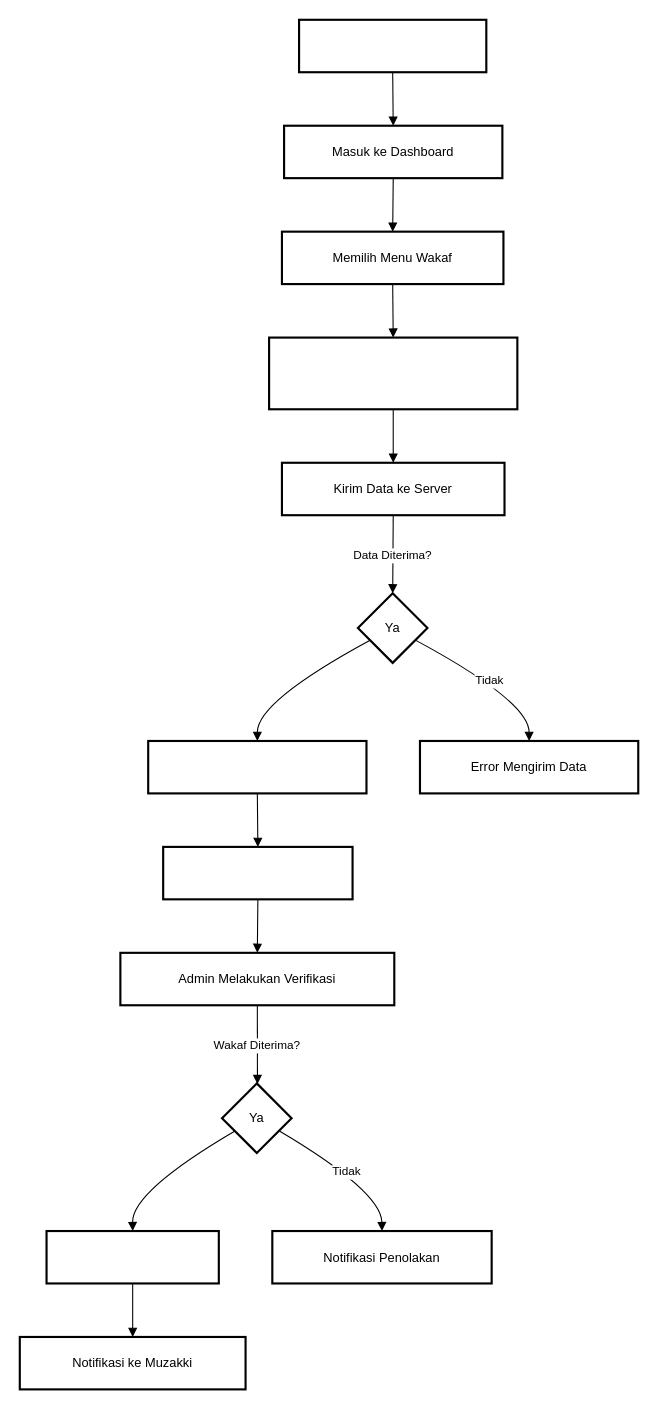
Some shapes in this 657 by 1408 pixel diagram are drawn without their labels. Each missing label, with the centre of its shape:
Login/Registrasi: [392,45]
Mengisi Form Pengajuan Wakaf: [393,373]
Notifikasi Admin: [257,872]
Simpan ke Database: [257,766]
Update Status: [132,1256]
